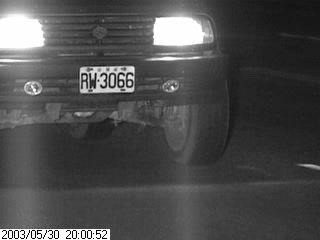plate: (77, 62, 136, 96)
